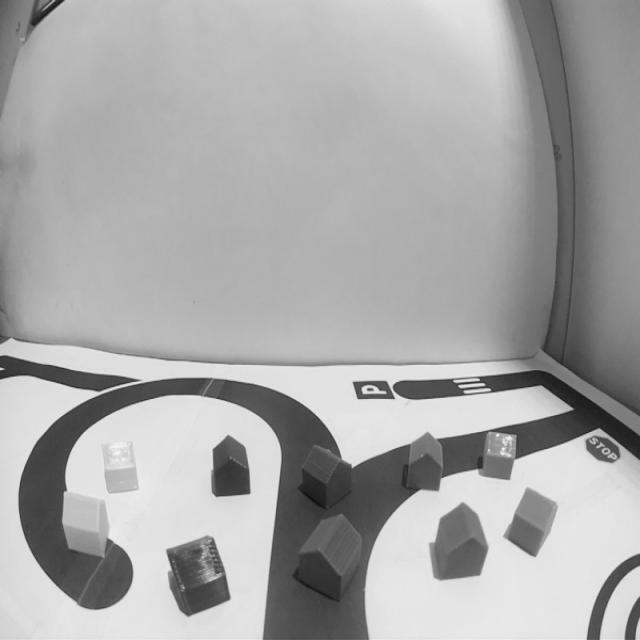home: (297, 513, 363, 601), (166, 536, 230, 616), (432, 502, 489, 580), (506, 486, 559, 558), (60, 490, 111, 560), (300, 444, 353, 510), (211, 434, 251, 498), (405, 431, 445, 491), (101, 439, 140, 494), (482, 430, 519, 480)
